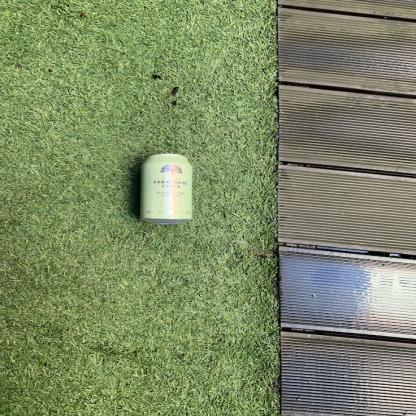trash: (139, 151, 200, 227)
